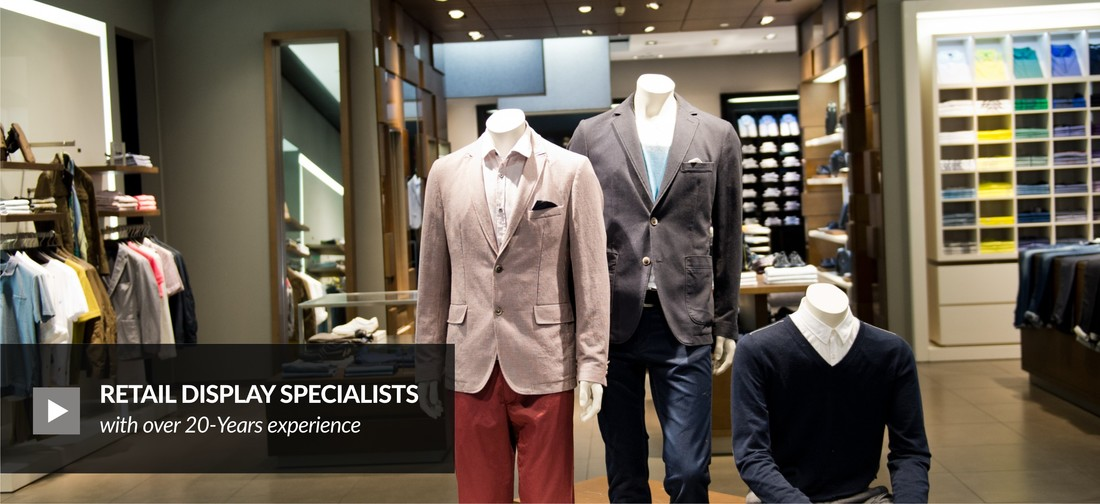person-like: (408, 102, 616, 504), (567, 70, 750, 504), (724, 275, 935, 504)
